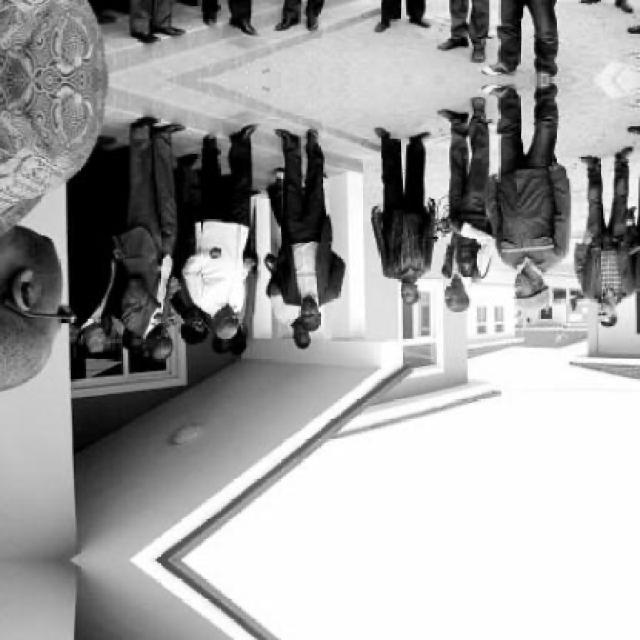con casco: (504, 238, 558, 320)
sin casco: (0, 169, 80, 403), (187, 277, 251, 353), (427, 248, 487, 328), (126, 308, 183, 370), (589, 276, 632, 343), (287, 307, 351, 341), (380, 276, 434, 313)
